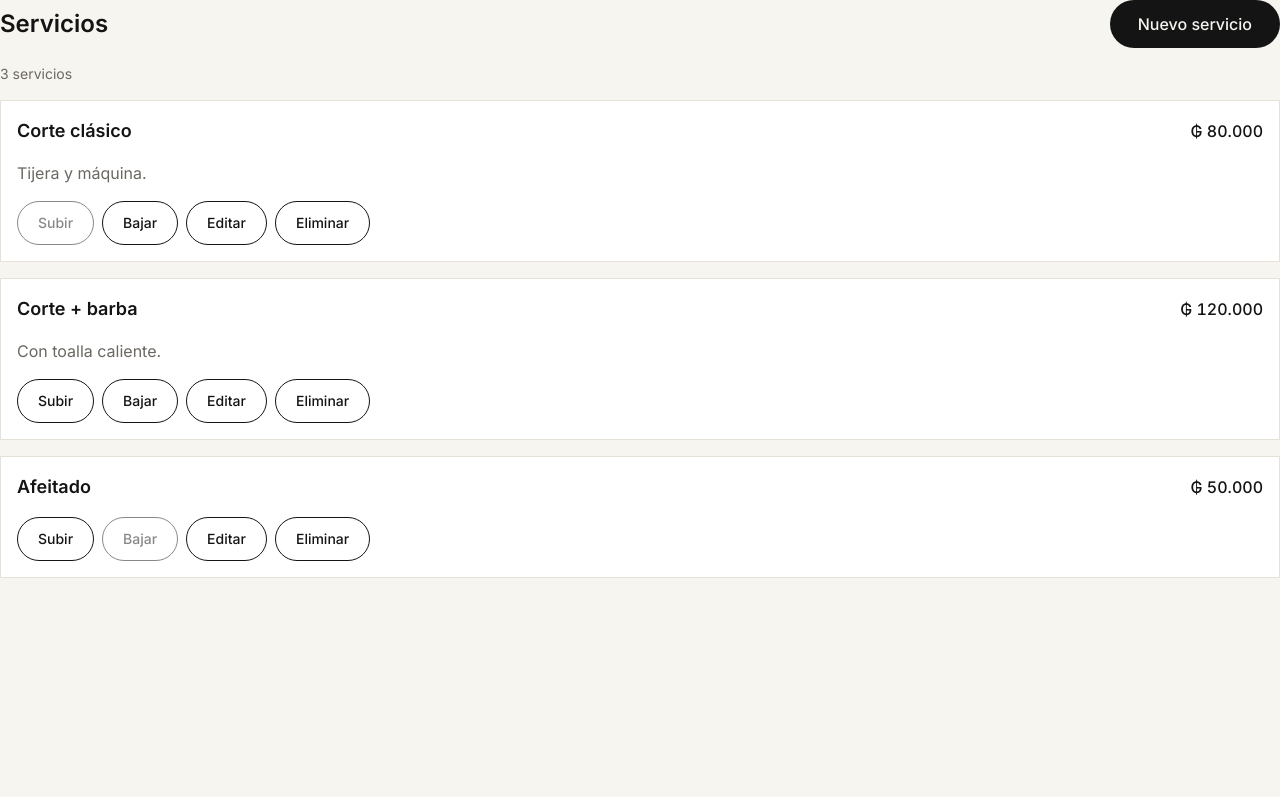
Test case: si la action falla › guardar sin conexión: el formulario sigue abierto con lo escrito y el aviso
Click the button with aria-label "Editar Corte clásico" at (226, 223), box left=186, top=201, right=267, bottom=245
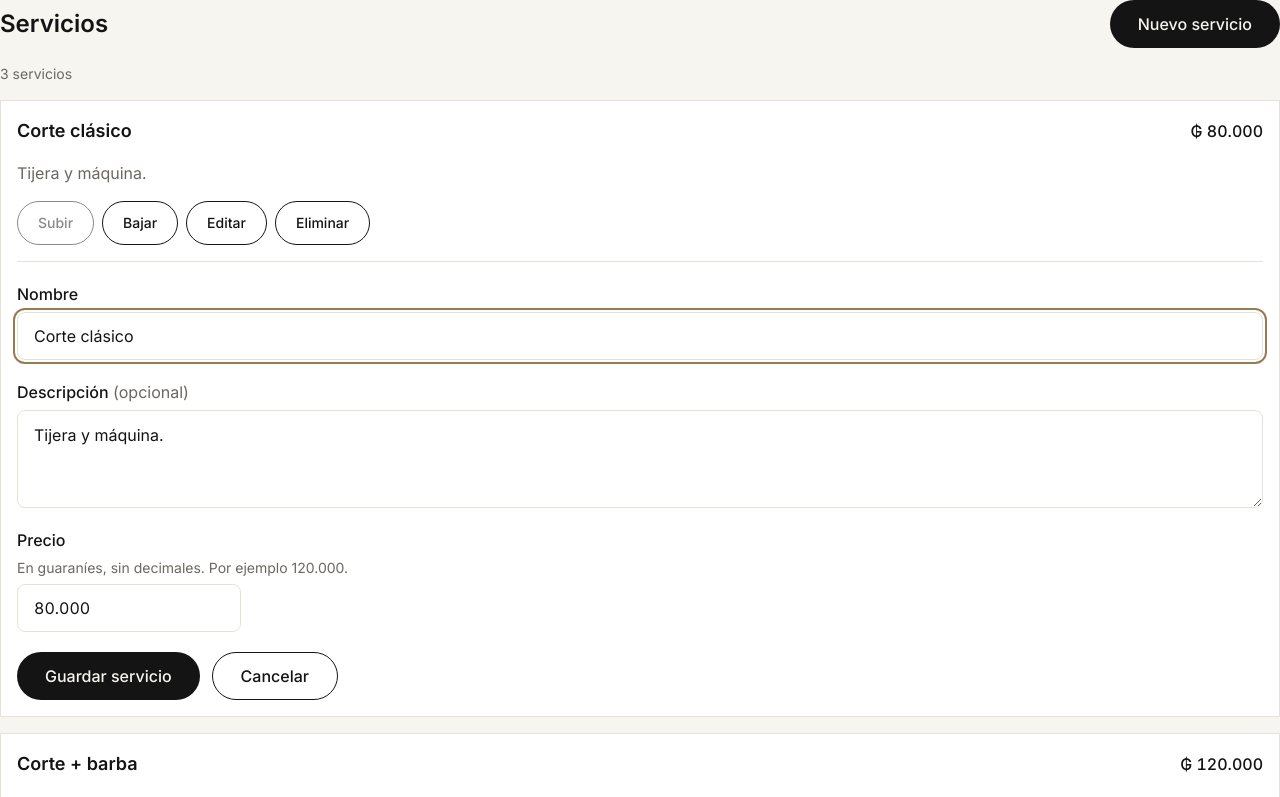
Replace the text in the field labelled "Precio" with "95000" at (129, 608), box left=17, top=584, right=241, bottom=632
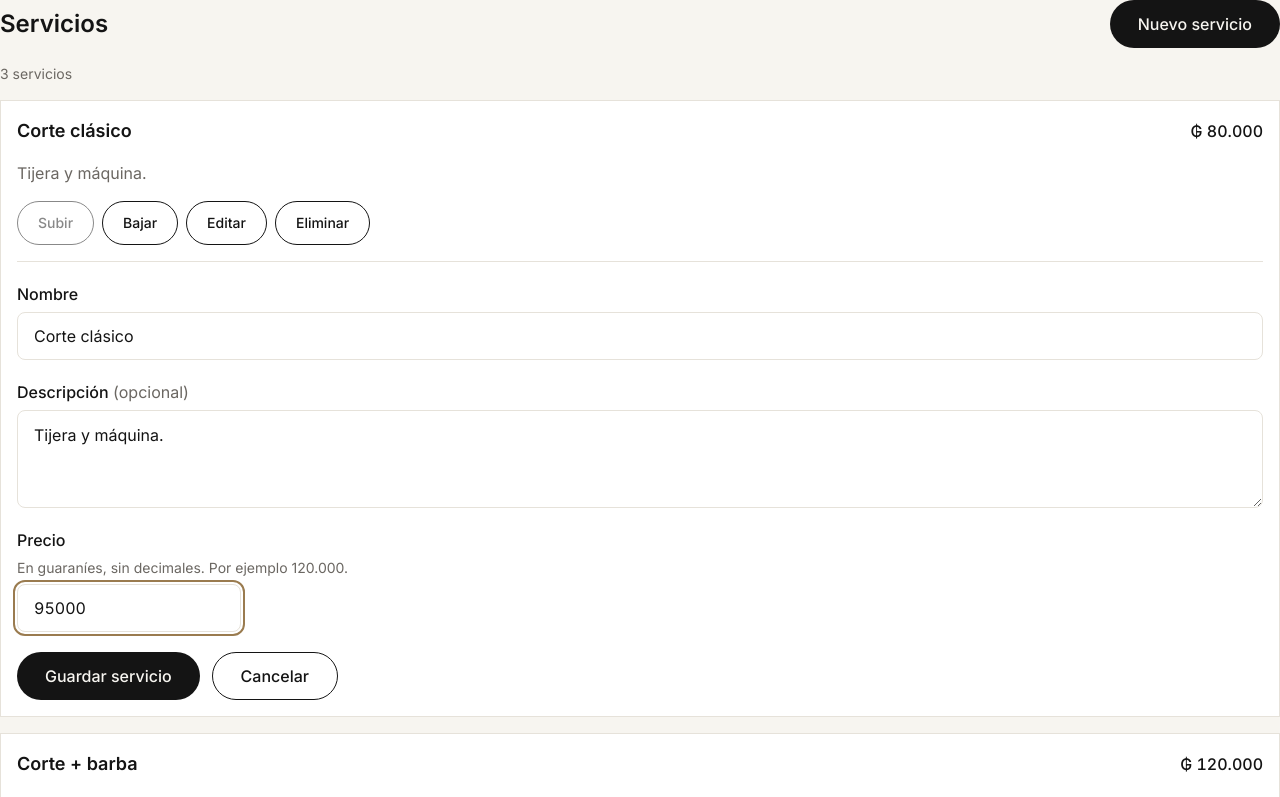
Click the button "Guardar servicio" at (108, 676), box left=17, top=652, right=200, bottom=700
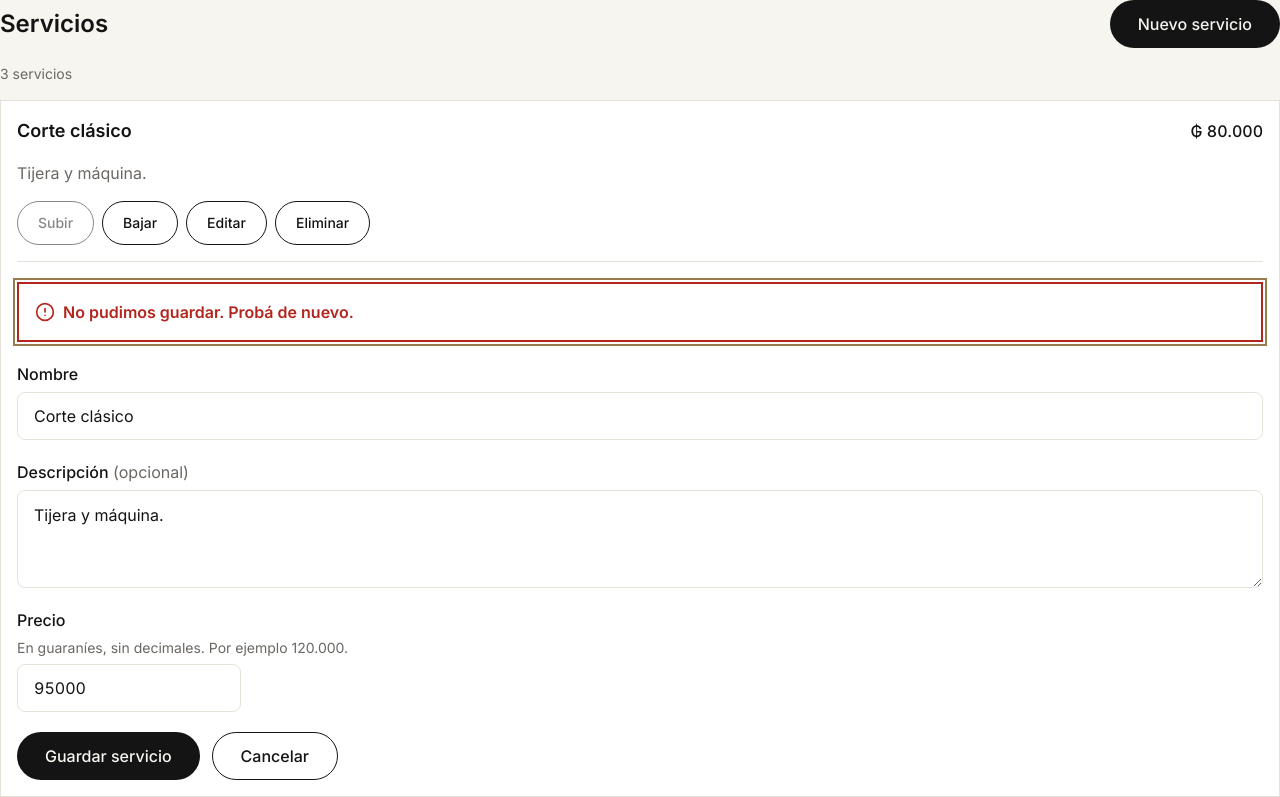
Now the message reads "No pudimos guardar. Probá de nuevo.", box left=63, top=302, right=354, bottom=322
